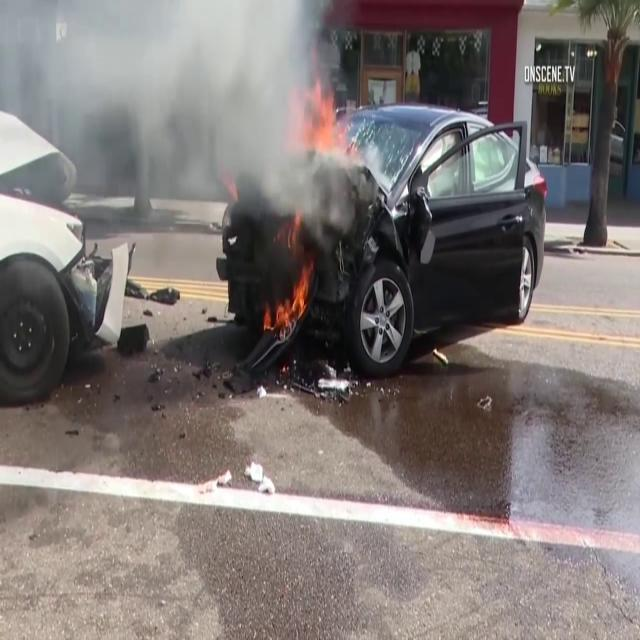Fire: (265, 261, 315, 336)
Smoke: (0, 0, 368, 236)
